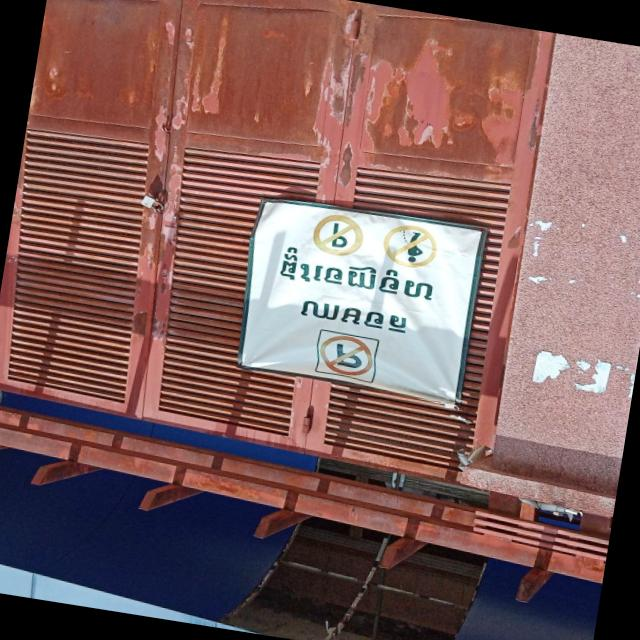Yolov11_80vkh: (263, 243, 443, 311), (280, 290, 419, 345)
